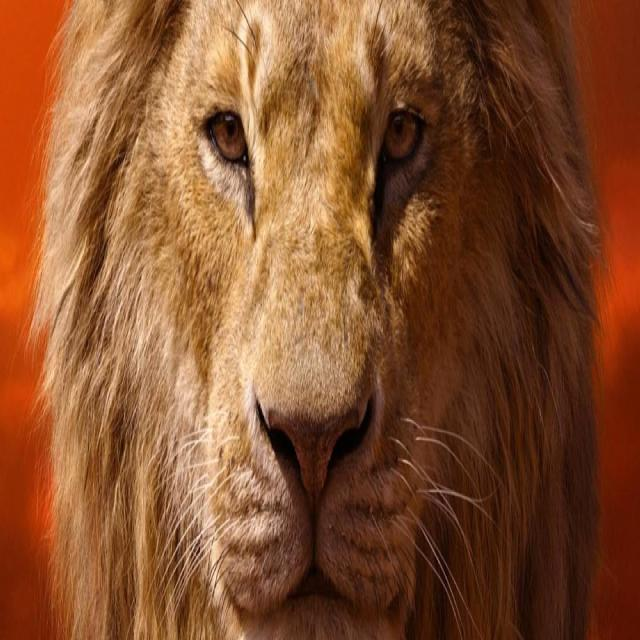Lion: (42, 2, 600, 626)
